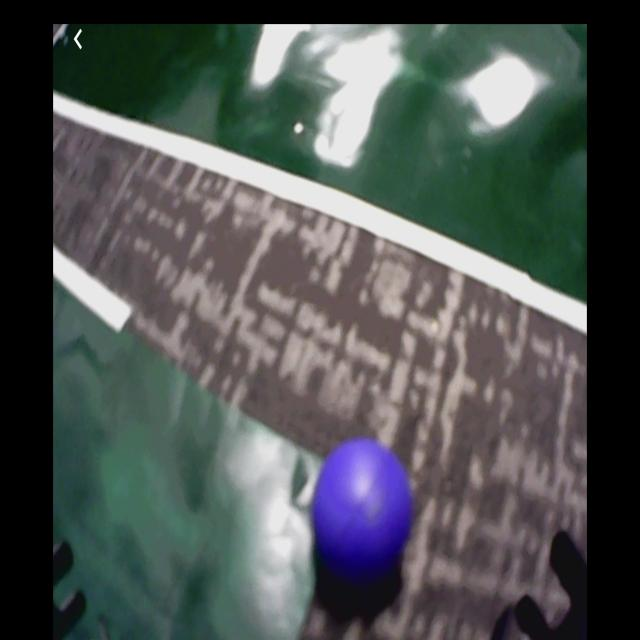ball: (314, 439, 412, 573)
